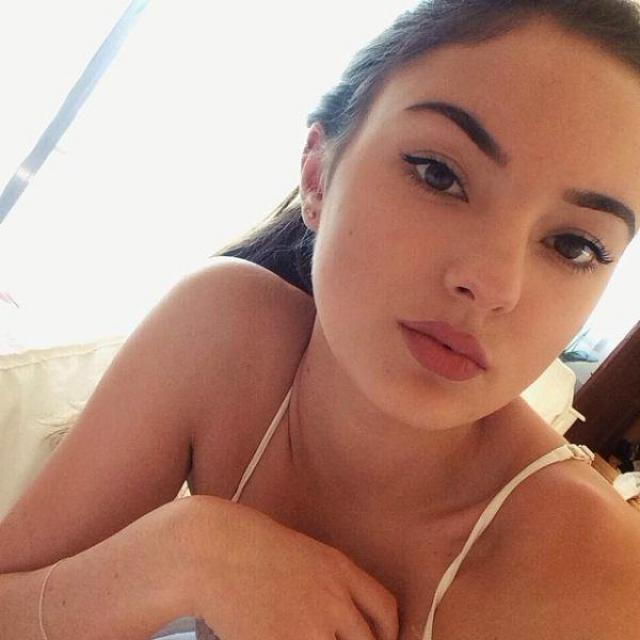earlobe: (299, 122, 327, 233)
